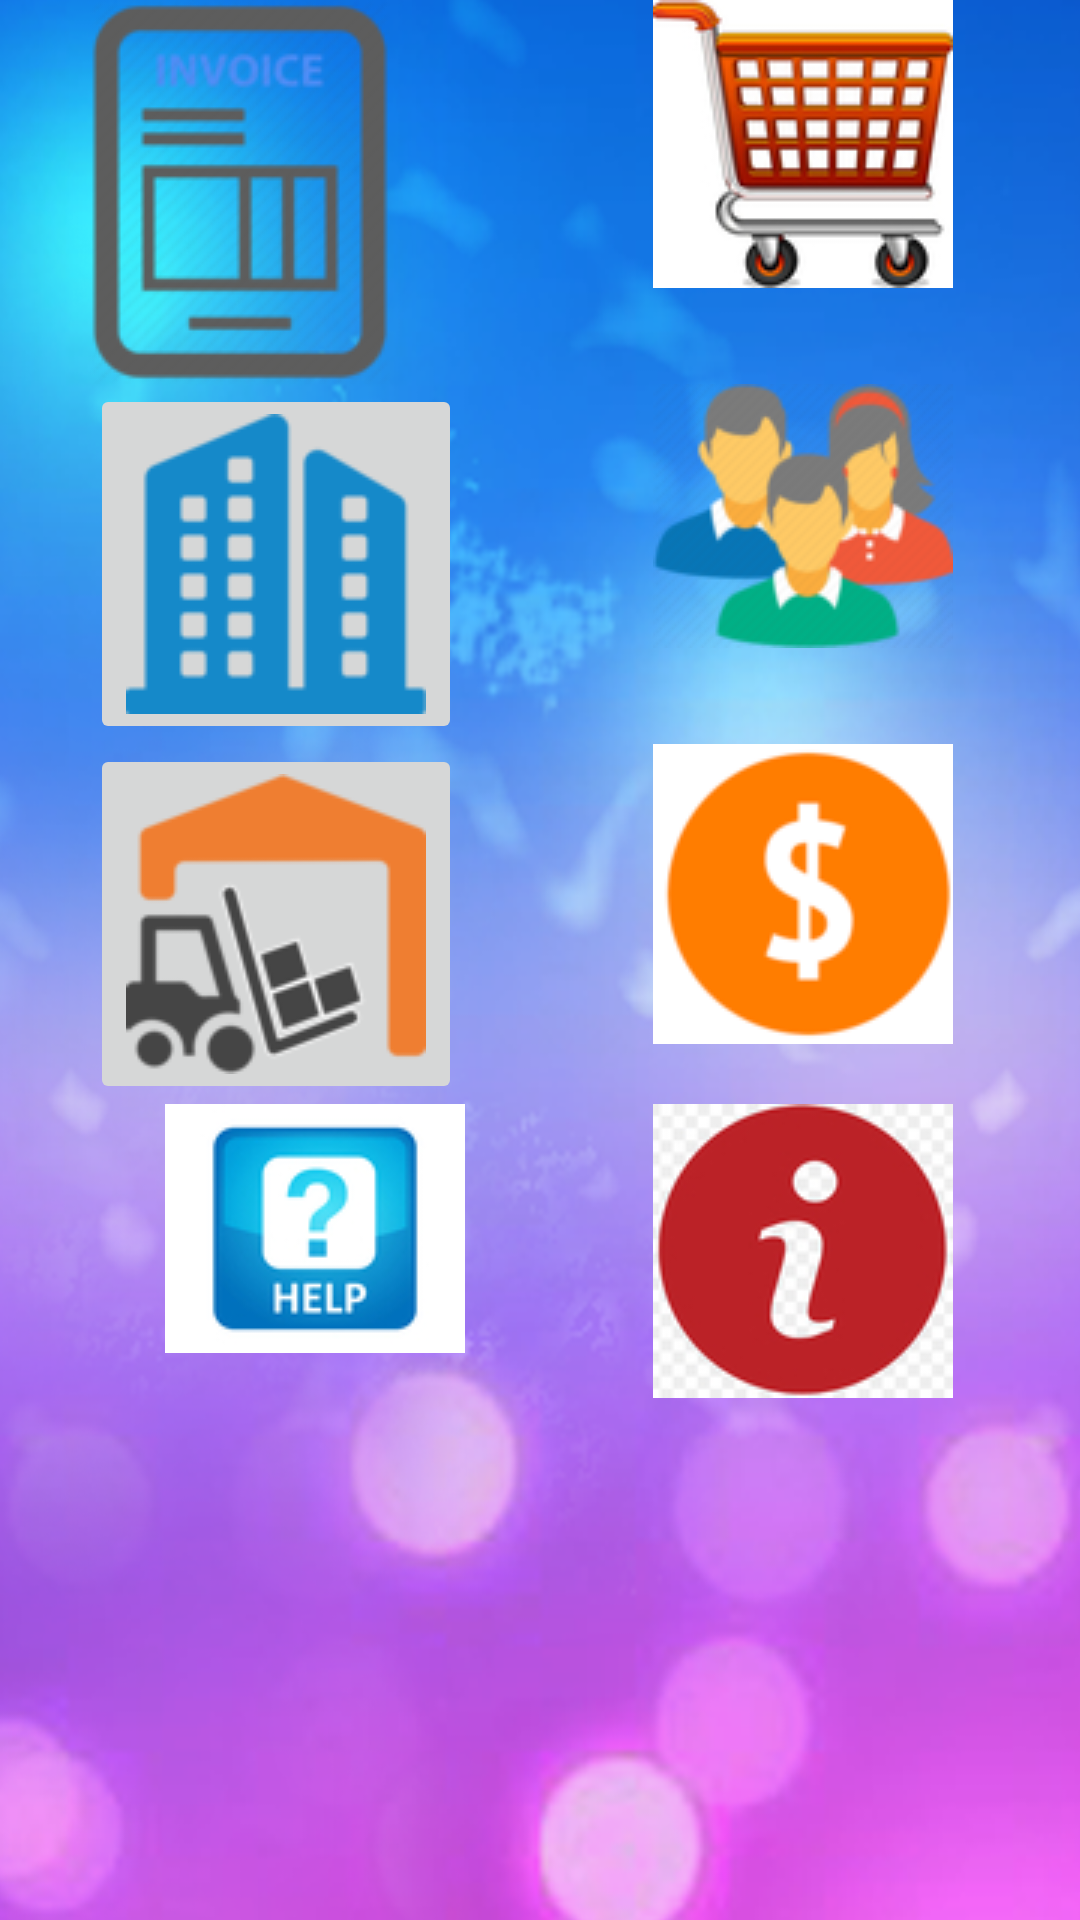

Icon click points for this 1080px x 1920px phone screenshot, format [x,y]:
shopping: [803,144]
